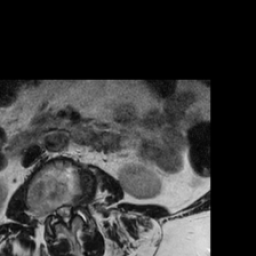CCS_normal: (63, 198, 69, 231)
LFS_severe_stenosis: (76, 195, 83, 219)
LLS_severe_stenosis: (69, 197, 76, 222)
RFS_severe_stenosis: (49, 200, 56, 224)
RLS_stenosis: (56, 199, 63, 223)
